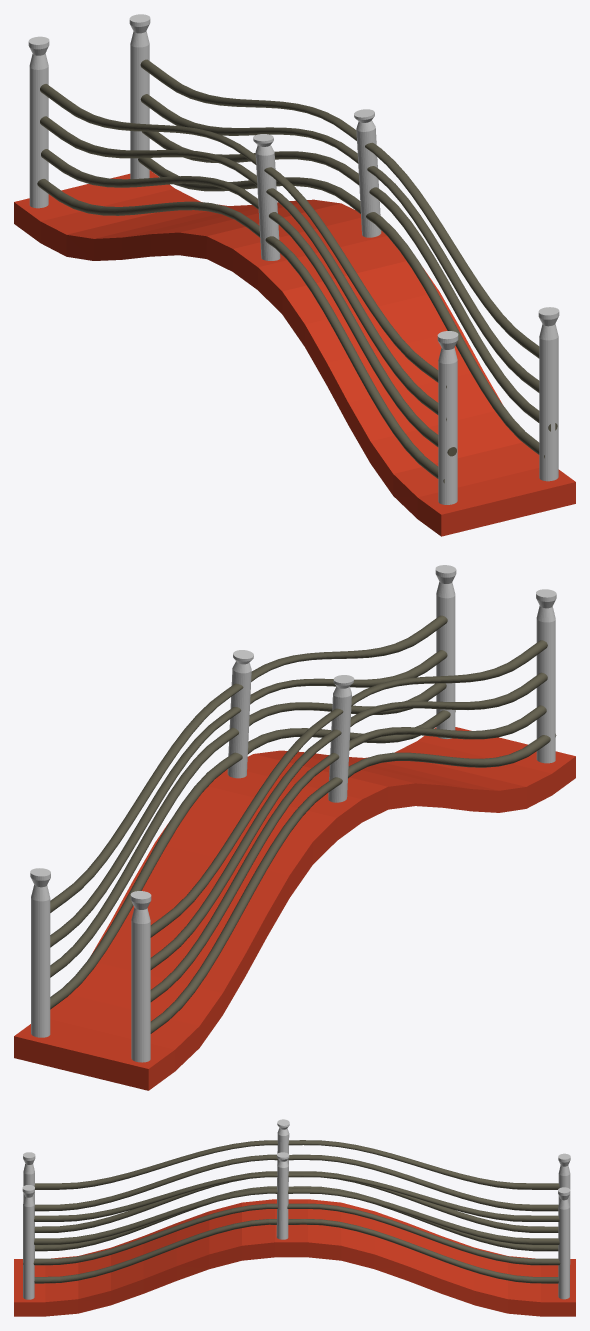
Rendered from bridge.obj.
The picture shows the model from 3 angles, top to bottom: view 1: azimuth 30°, elevation 25°; view 2: azimuth 150°, elevation 25°; view 3: azimuth 270°, elevation 25°; orthographic projection. The views are drawn at different scales.
Visible parts, largest first — view 1: Cube, Cylinder.012_Cylinder.013, Cylinder.013_Cylinder.014, Cylinder.011_Cylinder.012, Cylinder.014_Cylinder.015, Cylinder.015_Cylinder.016, Cylinder.010_Cylinder.017, Cylinder.008, Cylinder.009_Cylinder.010, Cylinder.006, Cylinder.016_Cylinder.018, Cylinder.001 (+3 smaller); view 2: Cube, Cylinder.012_Cylinder.013, Cylinder.013_Cylinder.014, Cylinder.011_Cylinder.012, Cylinder.014_Cylinder.015, Cylinder.008, Cylinder.015_Cylinder.016, Cylinder.009_Cylinder.010, Cylinder.010_Cylinder.017, Cylinder.001, Cylinder, Cylinder.016_Cylinder.018 (+3 smaller); view 3: Cube, Cylinder.008, Cylinder.009_Cylinder.010, Cylinder.014_Cylinder.015, Cylinder.010_Cylinder.017, Cylinder.015_Cylinder.016, Cylinder.011_Cylinder.012, Cylinder.013_Cylinder.014, Cylinder.012_Cylinder.013, Cylinder.006, Cylinder, Cylinder.002 (+3 smaller).
Part boxes in pixels (bbox=[...]): Cube: bbox=[14, 170, 575, 536]; Cylinder.012_Cylinder.013: bbox=[37, 179, 444, 483]; Cylinder.013_Cylinder.014: bbox=[41, 149, 456, 456]; Cylinder.011_Cylinder.012: bbox=[140, 59, 539, 358]; Cylinder.014_Cylinder.015: bbox=[40, 116, 446, 420]; Cylinder.015_Cylinder.016: bbox=[40, 84, 446, 388]; Cylinder.010_Cylinder.017: bbox=[140, 94, 539, 392]; Cylinder.008: bbox=[138, 158, 544, 458]; Cylinder.009_Cylinder.010: bbox=[142, 131, 557, 431]; Cylinder.006: bbox=[538, 307, 559, 481]; Cylinder.016_Cylinder.018: bbox=[437, 331, 458, 504]; Cylinder.001: bbox=[28, 36, 49, 208]; Cube: bbox=[14, 727, 575, 1090]; Cylinder.012_Cylinder.013: bbox=[150, 734, 556, 1033]; Cylinder.013_Cylinder.014: bbox=[150, 705, 546, 1001]; Cylinder.011_Cylinder.012: bbox=[50, 615, 447, 912]; Cylinder.014_Cylinder.015: bbox=[150, 672, 547, 969]; Cylinder.008: bbox=[50, 710, 455, 1009]; Cylinder.015_Cylinder.016: bbox=[150, 640, 547, 937]; Cylinder.009_Cylinder.010: bbox=[50, 683, 446, 977]; Cylinder.010_Cylinder.017: bbox=[50, 650, 447, 947]; Cylinder.001: bbox=[130, 891, 151, 1062]; Cylinder: bbox=[30, 868, 50, 1037]; Cylinder.016_Cylinder.018: bbox=[536, 589, 556, 763]; Cube: bbox=[14, 1199, 575, 1316]; Cylinder.008: bbox=[34, 1219, 558, 1283]; Cylinder.009_Cylinder.010: bbox=[23, 1203, 560, 1265]; Cylinder.014_Cylinder.015: bbox=[34, 1154, 558, 1211]; Cylinder.010_Cylinder.017: bbox=[34, 1188, 559, 1244]; Cylinder.015_Cylinder.016: bbox=[34, 1140, 559, 1189]; Cylinder.011_Cylinder.012: bbox=[34, 1172, 559, 1221]; Cylinder.013_Cylinder.014: bbox=[34, 1171, 558, 1232]; Cylinder.012_Cylinder.013: bbox=[35, 1186, 558, 1251]; Cylinder.006: bbox=[22, 1185, 34, 1299]; Cylinder: bbox=[558, 1187, 570, 1299]; Cylinder.002: bbox=[276, 1152, 289, 1239].
Bounding box in the file's own units: 2.23 × 3.45 × 10.99.
